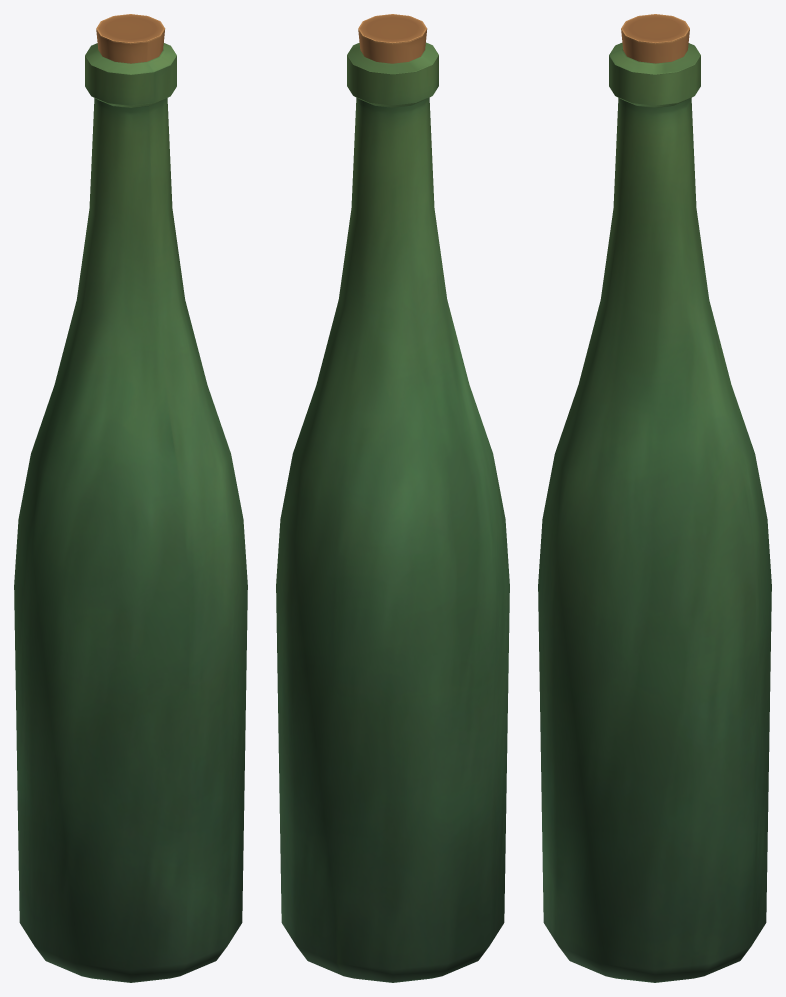
The model's file is SM_Drink_Bottle_B_Green.fbx.
The picture shows the model from 3 angles, left to right: view 1: azimuth 30°, elevation 25°; view 2: azimuth 150°, elevation 25°; view 3: azimuth 270°, elevation 25°; orthographic projection.
Visible parts, largest first — view 1: SM_Drink_Bottle_B_Green_LOD0; view 2: SM_Drink_Bottle_B_Green_LOD0; view 3: SM_Drink_Bottle_B_Green_LOD0.
Part boxes in pixels (<box>): SM_Drink_Bottle_B_Green_LOD0: <box>14,14,247,982</box>; SM_Drink_Bottle_B_Green_LOD0: <box>276,14,509,982</box>; SM_Drink_Bottle_B_Green_LOD0: <box>538,14,771,982</box>.
Bounding box in the file's own units: 7.99 × 7.99 × 34.75.
1 material, 1 textured.
